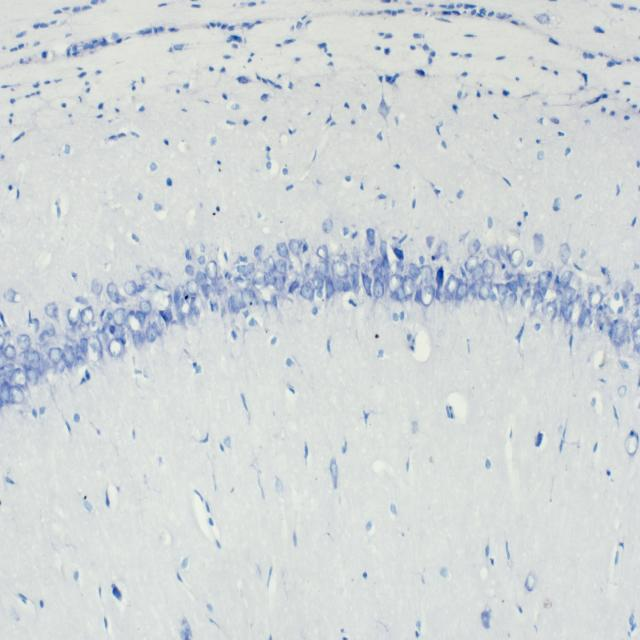neuron: (87, 334, 104, 362), (610, 319, 627, 347), (559, 287, 576, 312), (569, 298, 583, 326), (538, 270, 552, 296), (529, 290, 543, 316), (316, 260, 334, 280), (349, 262, 360, 294), (419, 284, 435, 306), (331, 261, 349, 280), (108, 337, 125, 357), (62, 344, 75, 370), (126, 312, 142, 333), (150, 313, 164, 337), (284, 270, 300, 291), (28, 357, 46, 375), (8, 385, 24, 405), (516, 272, 532, 292), (12, 368, 28, 387), (18, 351, 34, 370), (252, 269, 266, 290), (420, 264, 434, 285), (0, 380, 12, 404), (446, 274, 458, 298), (502, 293, 518, 311), (508, 249, 524, 267), (402, 275, 415, 297), (544, 300, 557, 322), (300, 281, 315, 300), (67, 306, 81, 326), (388, 274, 402, 294), (157, 294, 173, 311), (555, 288, 564, 318), (588, 290, 603, 308), (186, 277, 200, 296), (107, 282, 119, 304), (189, 297, 202, 317), (205, 260, 218, 280), (228, 294, 241, 314), (482, 259, 495, 279), (16, 333, 31, 350), (48, 347, 63, 364), (533, 232, 544, 255), (45, 301, 59, 319), (80, 306, 94, 324), (112, 308, 126, 326), (373, 278, 385, 299), (562, 300, 574, 321), (25, 368, 38, 387), (0, 363, 15, 379), (24, 318, 40, 333), (41, 322, 56, 338), (132, 330, 144, 350), (315, 244, 329, 261), (124, 279, 137, 297), (465, 254, 478, 272), (596, 306, 607, 327), (91, 277, 103, 296), (464, 286, 476, 305), (495, 282, 509, 298), (255, 244, 268, 261), (455, 283, 468, 300), (560, 242, 570, 264), (289, 238, 301, 256), (312, 272, 324, 290), (437, 285, 448, 304), (24, 349, 40, 362), (42, 352, 55, 368), (139, 299, 152, 315), (195, 270, 208, 286), (276, 242, 289, 258), (332, 278, 345, 294), (66, 326, 78, 343), (145, 325, 157, 342), (363, 239, 375, 256), (582, 308, 592, 328), (112, 324, 125, 339), (264, 271, 277, 286), (4, 344, 16, 360), (273, 275, 285, 291), (326, 276, 334, 300), (468, 238, 480, 254), (487, 242, 499, 258), (560, 271, 572, 287), (264, 256, 275, 273), (632, 326, 640, 349), (38, 331, 52, 344), (242, 263, 255, 277), (141, 270, 153, 285), (275, 259, 287, 274), (374, 264, 384, 282), (187, 310, 198, 326), (203, 284, 214, 300), (322, 218, 333, 234), (397, 286, 408, 302), (409, 263, 420, 279), (473, 264, 484, 280), (366, 228, 376, 245), (630, 316, 640, 333), (244, 287, 256, 301), (506, 279, 518, 293), (74, 357, 85, 372), (479, 285, 490, 300), (304, 262, 314, 278), (80, 337, 88, 356), (150, 268, 162, 280), (499, 242, 508, 258), (185, 264, 195, 276), (74, 344, 81, 361), (135, 283, 146, 292), (197, 255, 206, 265), (236, 265, 246, 274)
